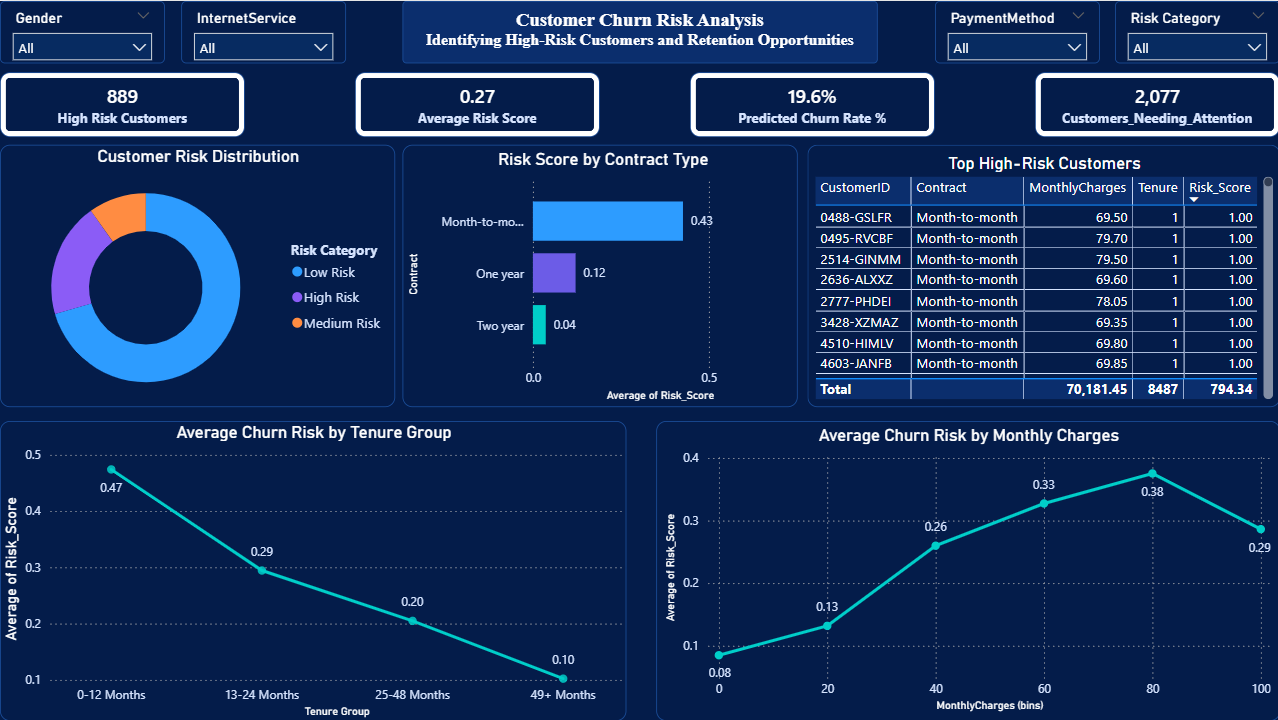

What the dashboard file says about the page in this screenshot:
{"tool":"powerbi","page":{"name":"Risk Analysis","canvas":[1280,720],"ordinal":1},"visuals":[{"type":"cardVisual","fields":{"Data":["telecom_churn_cleaned.High Risk Customers"]},"box":[0,71.2,245,65],"z":0},{"type":"cardVisual","fields":{"Data":["telecom_churn_cleaned.Average Risk Score"]},"box":[355,71.2,245,65],"z":1000},{"type":"donutChart","title":"Customer Risk Distribution","fields":{"Category":["telecom_churn_cleaned.Risk Category"],"Y":["CountNonNull(telecom_churn_cleaned.customerID)"]},"box":[0,143.8,395,262.5],"z":2000},{"type":"tableEx","title":"Top High-Risk Customers","fields":{"Values":["telecom_churn_cleaned.customerID","telecom_churn_cleaned.Contract","Sum(telecom_churn_cleaned.MonthlyCharges)","Sum(telecom_churn_cleaned.tenure)","Sum(telecom_churn_cleaned.Risk_Score)"]},"box":[807.5,143.8,472.5,262.5],"z":3000},{"type":"lineChart","title":"Average Churn Risk by Monthly Charges","fields":{"Y":["Avg(telecom_churn_cleaned.Risk_Score)"],"Category":["telecom_churn_cleaned.MonthlyCharges (bins)"]},"box":[656.2,420,623.8,300],"z":4000},{"type":"clusteredBarChart","title":"Risk Score by Contract Type","fields":{"Category":["telecom_churn_cleaned.Contract"],"Y":["Avg(telecom_churn_cleaned.Risk_Score)"]},"box":[402.5,143.8,395,262.5],"z":5000},{"type":"lineChart","title":"Average Churn Risk by Tenure Group","fields":{"Category":["telecom_churn_cleaned.Tenure Group"],"Y":["Avg(telecom_churn_cleaned.Risk_Score)"]},"box":[0,420,626.2,300],"z":6000},{"type":"slicer","fields":{"Values":["telecom_churn_cleaned.gender"]},"box":[0,0,165,62],"z":7000},{"type":"slicer","fields":{"Values":["telecom_churn_cleaned.InternetService"]},"box":[181.2,0,165,62.5],"z":8000},{"type":"slicer","fields":{"Values":["telecom_churn_cleaned.PaymentMethod"]},"box":[935,0,165,62.5],"z":9000},{"type":"slicer","fields":{"Values":["telecom_churn_cleaned.Risk Category"]},"box":[1115,0,165,62.5],"z":10000},{"type":"textbox","box":[402.5,0,475,62.5],"z":11000},{"type":"cardVisual","fields":{"Data":["telecom_churn_cleaned.Customers Needing Attention Display"]},"box":[1035,71.2,245,65],"z":13000},{"type":"cardVisual","fields":{"Data":["telecom_churn_cleaned.Predicted Churn Rate %"]},"box":[690,71.2,245,65],"z":14000}]}

Visuals, with their boxes in screenshot pixels (x1, y1, x2, y2), scaled from the page's 1280x720 canvas onto the 1278x720 screenshot:
cardVisual - telecom_churn_cleaned.High Risk Customers: Rect(0, 71, 245, 136)
cardVisual - telecom_churn_cleaned.Average Risk Score: Rect(354, 71, 599, 136)
"Customer Risk Distribution" donutChart: Rect(0, 144, 394, 406)
"Top High-Risk Customers" tableEx: Rect(806, 144, 1277, 406)
"Average Churn Risk by Monthly Charges" lineChart: Rect(655, 420, 1277, 719)
"Risk Score by Contract Type" clusteredBarChart: Rect(402, 144, 796, 406)
"Average Churn Risk by Tenure Group" lineChart: Rect(0, 420, 625, 719)
slicer - telecom_churn_cleaned.gender: Rect(0, 0, 165, 62)
slicer - telecom_churn_cleaned.InternetService: Rect(181, 0, 346, 62)
slicer - telecom_churn_cleaned.PaymentMethod: Rect(934, 0, 1098, 62)
slicer - telecom_churn_cleaned.Risk Category: Rect(1113, 0, 1277, 62)
textbox: Rect(402, 0, 876, 62)
cardVisual - telecom_churn_cleaned.Customers Needing Attention Display: Rect(1033, 71, 1277, 136)
cardVisual - telecom_churn_cleaned.Predicted Churn Rate %: Rect(689, 71, 934, 136)
